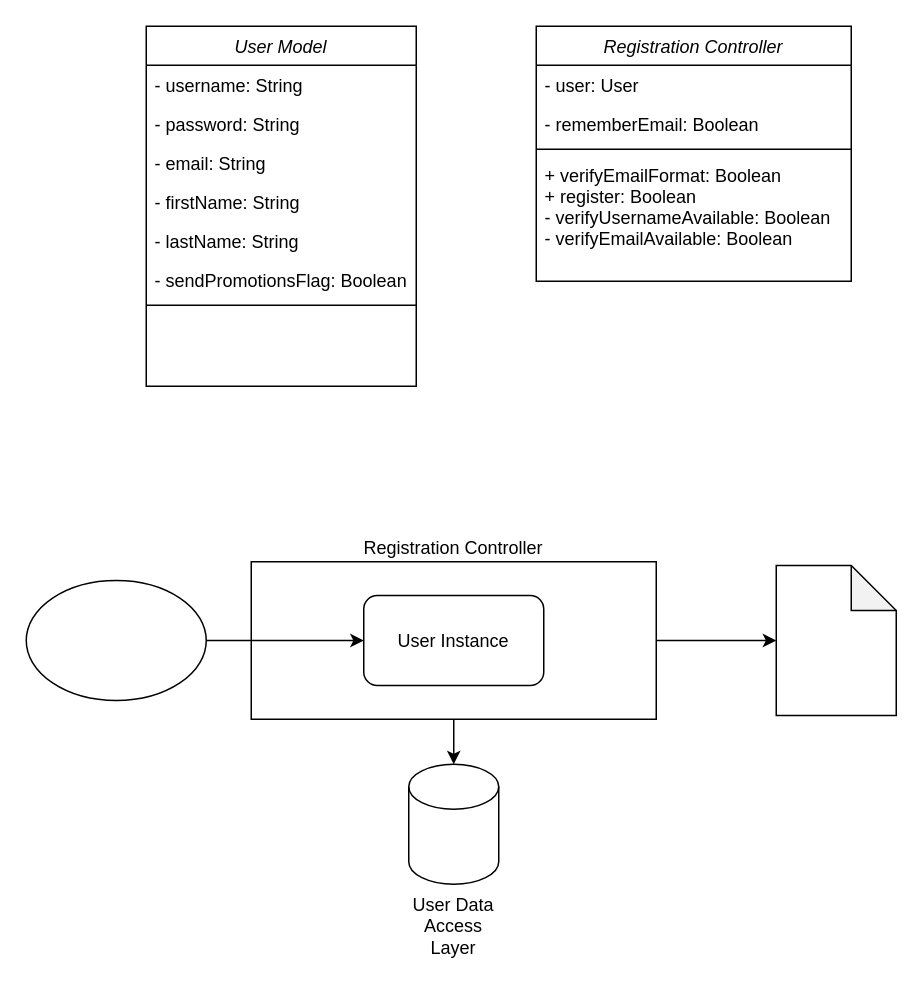
Image size: 923x986. Some labels were removed from this diagram. The shapes that lost their labels are listed below. From the top down, each one's centre as x and y in pixels, then its label:
the point at 115,639: User Data Model
the point at 835,640: UI Frontend
